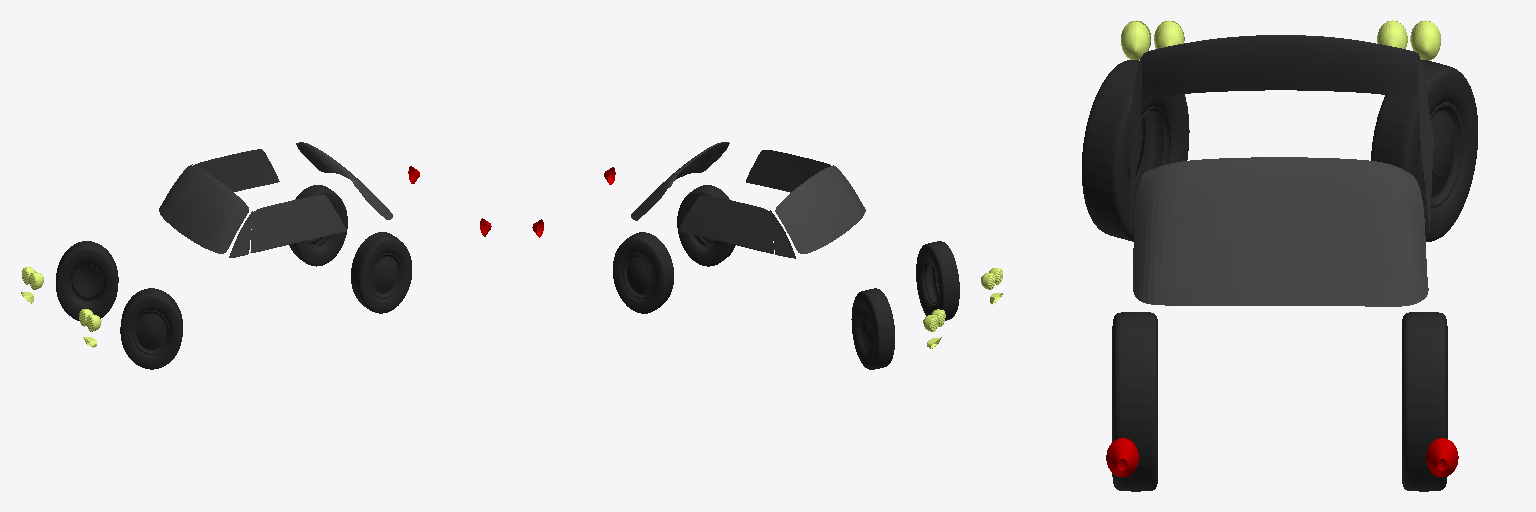
URDF robot description (vehicle_1):
<?xml version="1.0"?> 

<!-- Copyright 2023 [author] -->

<!-- Licensed under the Apache License, Version 2.0 (the "License"); -->
<!-- you may not use this file except in compliance with the License. -->
<!-- You may obtain a copy of the License at -->

<!--     http://www.apache.org/licenses/LICENSE-2.0 -->

<!-- Unless required by applicable law or agreed to in writing, software -->
<!-- distributed under the License is distributed on an "AS IS" BASIS, -->
<!-- WITHOUT WARRANTIES OR CONDITIONS OF ANY KIND, either express or implied. -->
<!-- See the License for the specific language governing permissions and -->
<!-- limitations under the License. -->

<!-- Authors: [author], [author] -->

<robot name="vehicle_1">
    <link name="vehicle_1">
        <visual>
            <origin xyz="0 0 -2.125" rpy="0 0 0" />
            <geometry>
                <mesh filename='meshes/vehicle_1body.stl' scale='0.75 0.75 1'/>
            </geometry>
            <material name="navy blue">
                <color rgba="0.2 0 0.4 1"/>
            </material>
        </visual>
        <collision>
            <origin xyz="0 0 -2.125" rpy="0 0 0" />
            <geometry>
                <mesh filename='meshes/vehicle_1body.stl' scale='0.75 0.75 1'/>
            </geometry>
        </collision>
        <inertial>
            <mass value="10"/>
            <inertia ixx="0.4" ixy="0.0" ixz="0.0" iyy="0.4" iyz="0.0" izz="0.2" />
        </inertial>
    </link>
    <link name="wheels">
        <visual>
            <origin xyz="0 0 -2.125" rpy="0 0 0" />
            <geometry>
                <mesh filename='meshes/vehicle_1wheel.stl' scale='0.75 0.75 1'/>
            </geometry>
            <material name="black">
                <color rgba="0.2 0.2 0.2 1"/>
            </material>
        </visual>
        <collision>
            <origin xyz="0 0 -2.125" rpy="0 0 0" />
            <geometry>
                <mesh filename='meshes/vehicle_1wheel.stl' scale='0.75 0.75 1'/>
            </geometry>
        </collision>
        <inertial>
            <mass value="10"/>
            <inertia ixx="0.4" ixy="0.0" ixz="0.0" iyy="0.4" iyz="0.0" izz="0.2" />
        </inertial>
    </link>
    <joint name="wheel" type="fixed">
        <origin rpy="0 0 0" xyz="0 0 0"/>
        <parent link="vehicle_1"/>
        <child link="wheels"/>
    </joint>
    <link name="windows">
        <visual>
            <origin xyz="0 0 -2.125" rpy="0 0 0" />
            <geometry>
                <mesh filename='meshes/vehicle_1windows.stl' scale='0.75 0.75 1'/>
            </geometry>
            <material name="windowblack">
                <color rgba="0.3 0.3 0.3 1"/>
            </material>
        </visual>
        <collision>
            <origin xyz="0 0 -2.125" rpy="0 0 0" />
            <geometry>
                <mesh filename='meshes/vehicle_1windows.stl' scale='0.75 0.75 1'/>
            </geometry>
        </collision>
        <inertial>
            <mass value="10"/>
            <inertia ixx="0.4" ixy="0.0" ixz="0.0" iyy="0.4" iyz="0.0" izz="0.2" />
        </inertial>
    </link>
    <joint name="window" type="fixed">
        <origin rpy="0 0 0" xyz="0 0 0"/>
        <parent link="vehicle_1"/>
        <child link="windows"/>
    </joint>
    <link name="headlights">
        <visual>
            <origin xyz="0 0 -2.125" rpy="0 0 0" />
            <geometry>
                <mesh filename='meshes/vehicle_1headlights.stl' scale='0.75 0.75 1'/>
            </geometry>
            <material name="yellow">
                <color rgba="0.9 1 0.5 1"/>
            </material>
        </visual>
        <collision>
            <origin xyz="0 0 -2.125" rpy="0 0 0" />
            <geometry>
                <mesh filename='meshes/vehicle_1headlights.stl' scale='0.75 0.75 1'/>
            </geometry>
        </collision>
        <inertial>
            <mass value="10"/>
            <inertia ixx="0.4" ixy="0.0" ixz="0.0" iyy="0.4" iyz="0.0" izz="0.2" />
        </inertial>
    </link>
    <joint name="headlight" type="fixed">
        <origin rpy="0 0 0" xyz="0 0 0"/>
        <parent link="vehicle_1"/>
        <child link="headlights"/>
    </joint>
    <link name="rearlights">
        <visual>
            <origin xyz="0 0 -2.125" rpy="0 0 0" />
            <geometry>
                <mesh filename='meshes/vehicle_1rearlights.stl' scale='0.75 0.75 1'/>
            </geometry>
            <material name="red">
                <color rgba="0.8 0 0 1"/>
            </material>
        </visual>
        <collision>
            <origin xyz="0 0 -2.125" rpy="0 0 0" />
            <geometry>
                <mesh filename='meshes/vehicle_1rearlights.stl' scale='0.75 0.75 1'/>
            </geometry>
        </collision>
        <inertial>
            <mass value="10"/>
            <inertia ixx="0.4" ixy="0.0" ixz="0.0" iyy="0.4" iyz="0.0" izz="0.2" />
        </inertial>
    </link>
    <joint name="rearlight" type="fixed">
        <origin rpy="0 0 0" xyz="0 0 0"/>
        <parent link="vehicle_1"/>
        <child link="rearlights"/>
    </joint>
</robot>

--- Facts derived from the render (not from the file) ---
Views: 3 orthographic renders of the robot side by side, from view 1: azimuth 30°, elevation 25°; view 2: azimuth 150°, elevation 25°; view 3: azimuth 270°, elevation 25°.
Robot: vehicle_1 — 5 links, 4 joints (4 fixed); root link vehicle_1; default pose: all joints at 0.
Visible links, largest first — view 1: wheels, windows, headlights; view 2: windows, wheels, headlights; view 3: windows, wheels, headlights, rearlights.
Link boxes in pixels (x1,y1,x2,y2): wheels: (56,185,411,369); windows: (159,142,392,257); headlights: (21,267,101,347); windows: (631,142,865,258); wheels: (613,185,959,369); headlights: (923,268,1002,348); windows: (1129,35,1433,306); wheels: (1082,60,1477,491); headlights: (1121,20,1440,60); rearlights: (1106,438,1458,477).
Size in the robot's own frame: 4.8 by 1.85 by 1.59 metres.
Meshes: 5 distinct files referenced, 4 mesh visuals loaded (4 binary STL); not drawn: 1 (reference not matched to a file when rendering).
